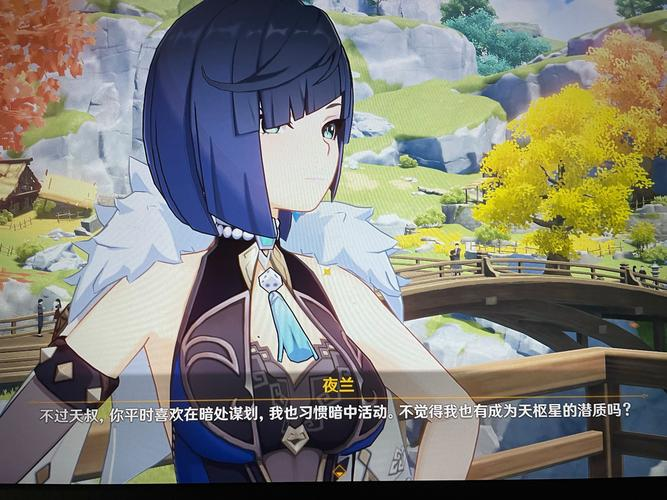夜兰: (1, 2, 496, 483)
